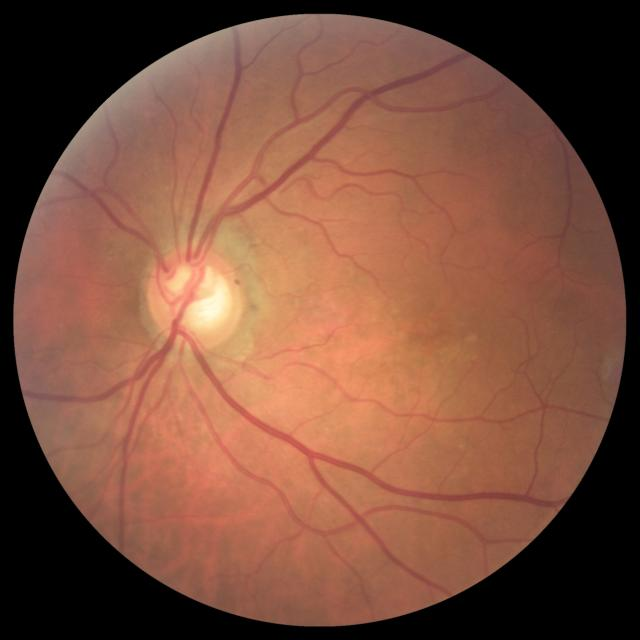OC: (162, 263, 229, 333)
OD: (147, 242, 242, 348)
